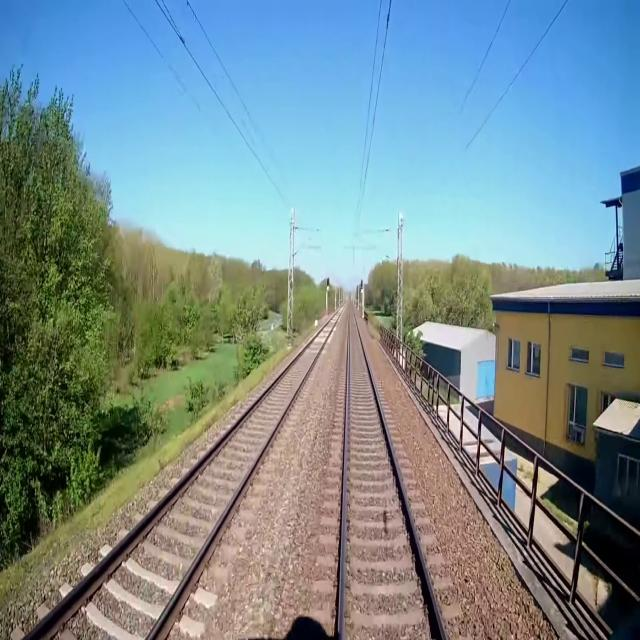rail-track: (28, 311, 339, 639), (343, 310, 441, 639)
